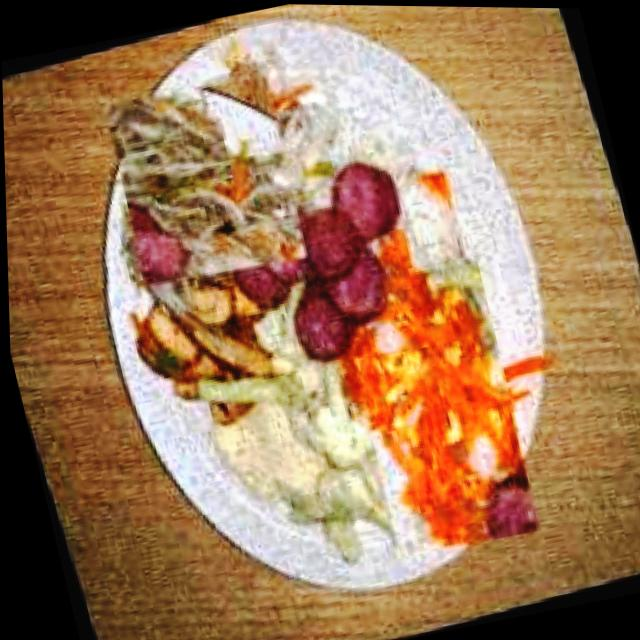carrot_eggs: (317, 244, 573, 568)
chinese_sausage: (212, 155, 438, 380)
mung_bean_sprouts: (151, 86, 297, 278)
